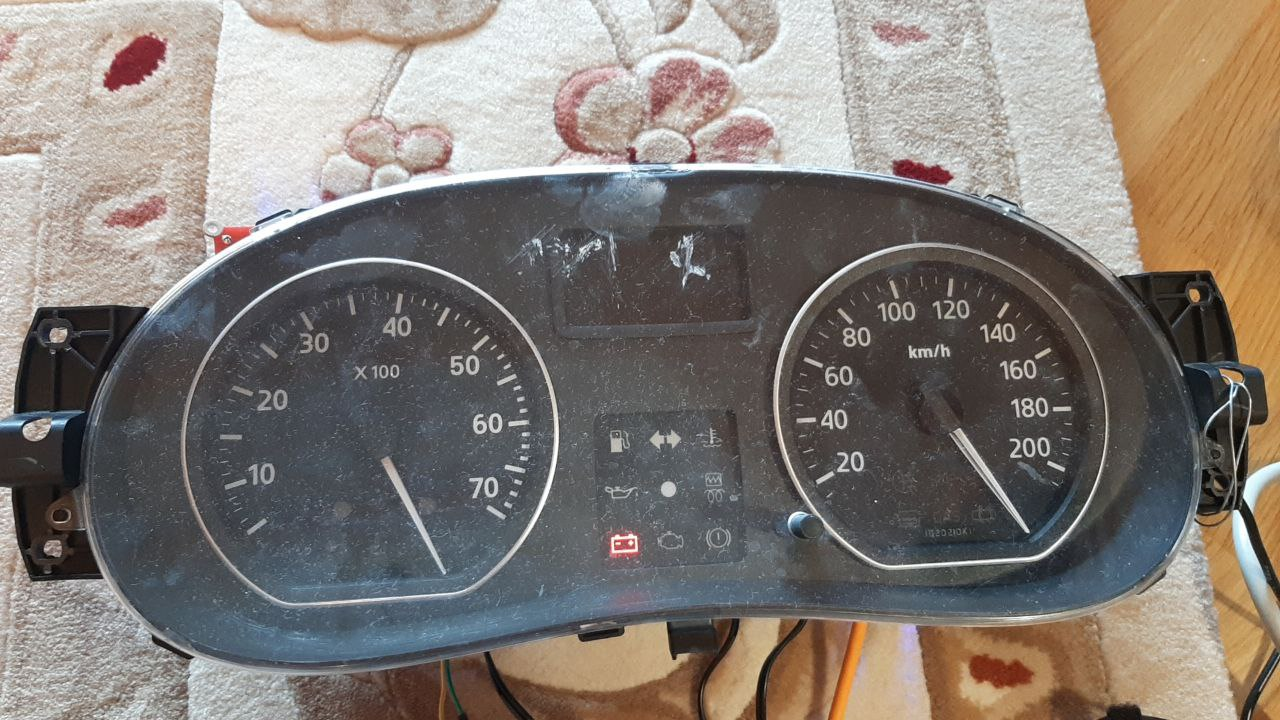accumulator: (605, 530, 646, 559)
